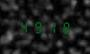eight: (57, 20, 69, 34)
four: (18, 19, 30, 33)
nine: (31, 19, 43, 33)
one: (44, 19, 56, 34)
